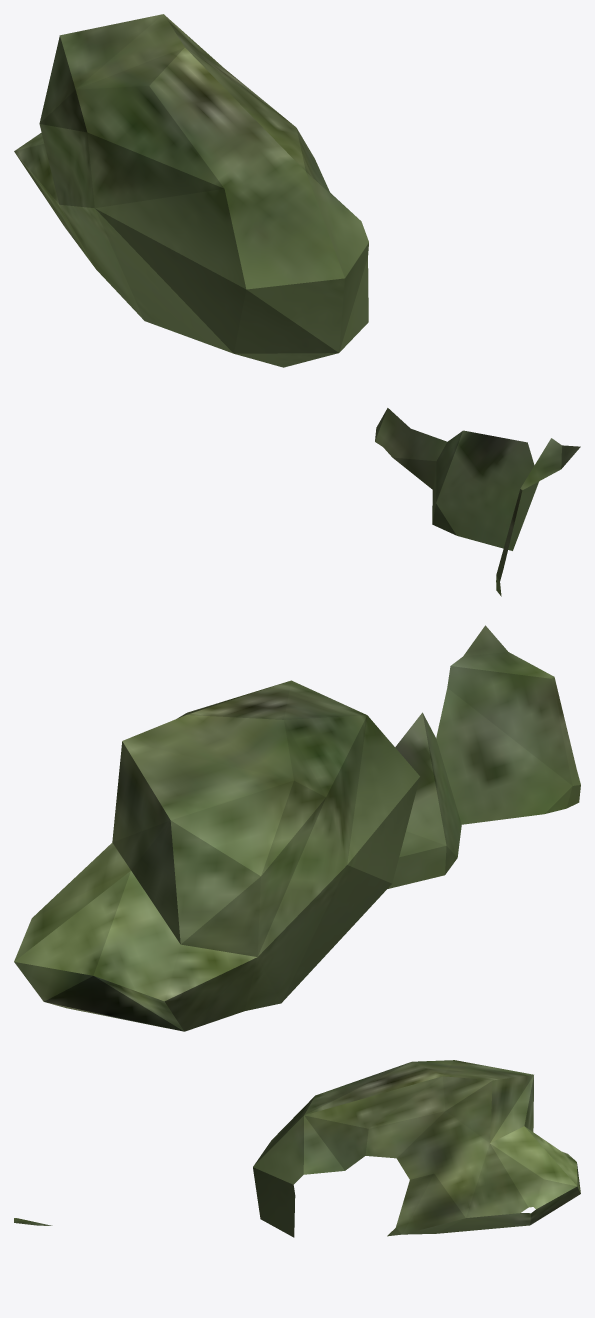
3 renders of one model, top to bottom at view 1: azimuth 30°, elevation 25°; view 2: azimuth 150°, elevation 25°; view 3: azimuth 270°, elevation 25°, orthographic. The views are drawn at different scales.
Size of the model in its own units: 2.47 by 3.98 by 9.94.
Materials: 1 (1 with a texture image).
